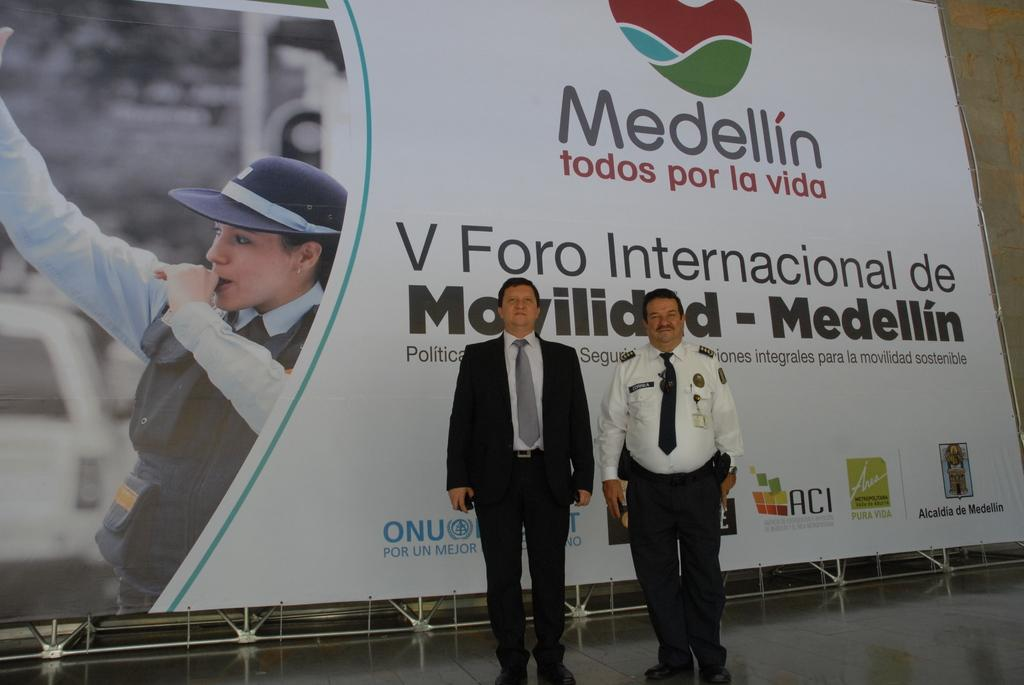Hat: (170, 152, 346, 247)
